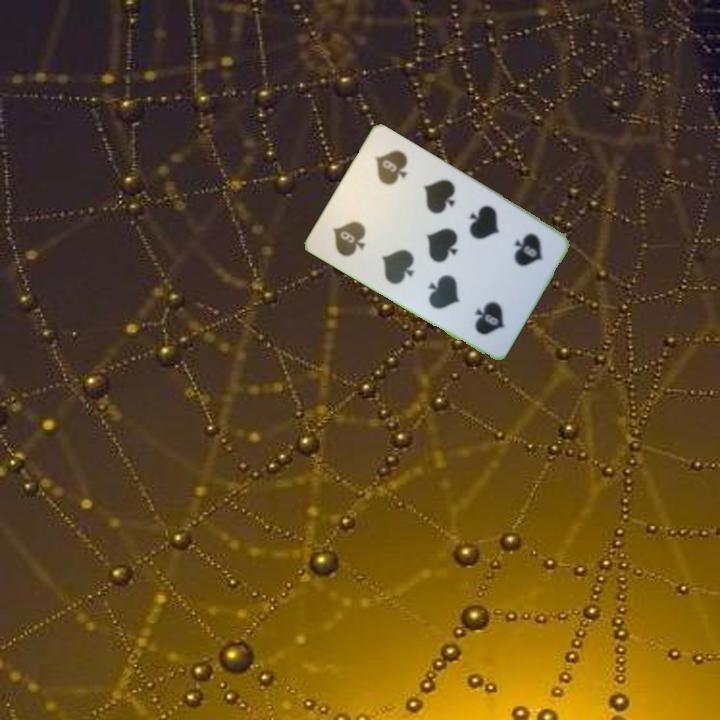s_9.png: (479, 213, 561, 298), (316, 187, 397, 272)
